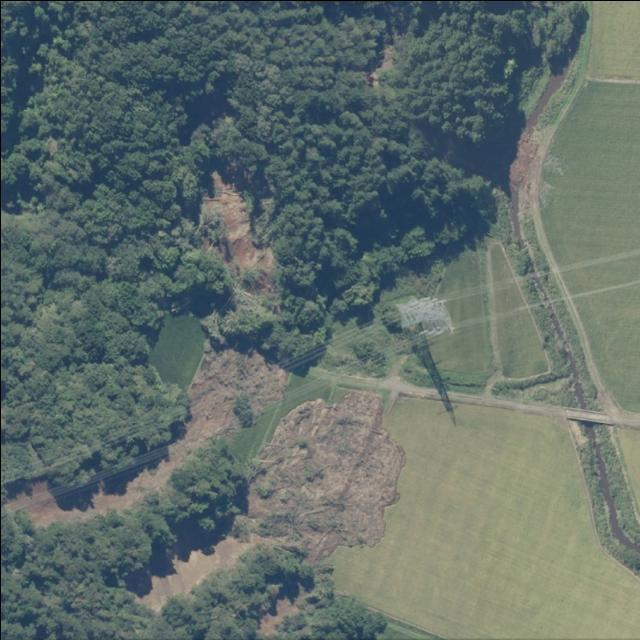landslide: (134, 390, 403, 612), (6, 348, 288, 526), (199, 172, 274, 292)
